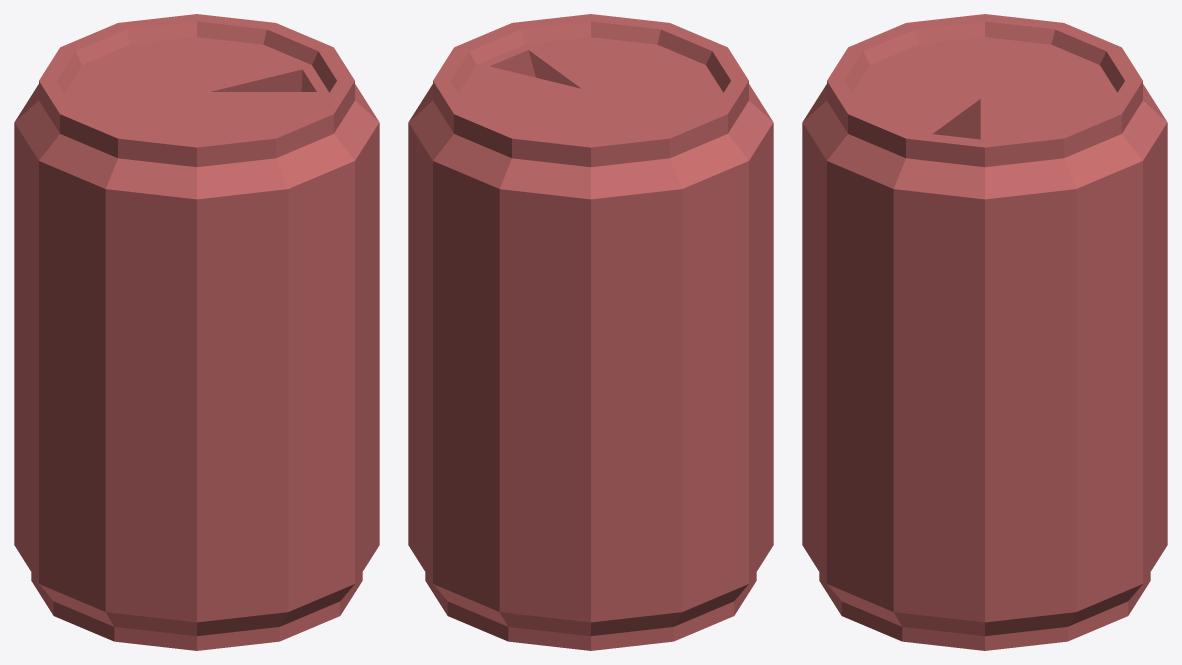
The model's file is SodaCan.fbx.
3 views of the same model, side by side, from view 1: azimuth 30°, elevation 25°; view 2: azimuth 150°, elevation 25°; view 3: azimuth 270°, elevation 25° (orthographic).
Parts seen in each view (by area): view 1: SodaCan; view 2: SodaCan; view 3: SodaCan.
Boxes of the visible parts, bbox=[...] form: SodaCan: bbox=[14, 14, 379, 650]; SodaCan: bbox=[408, 14, 773, 650]; SodaCan: bbox=[802, 14, 1167, 650].
Bounding box in the file's own units: 0.076 × 0.1149 × 0.076.
